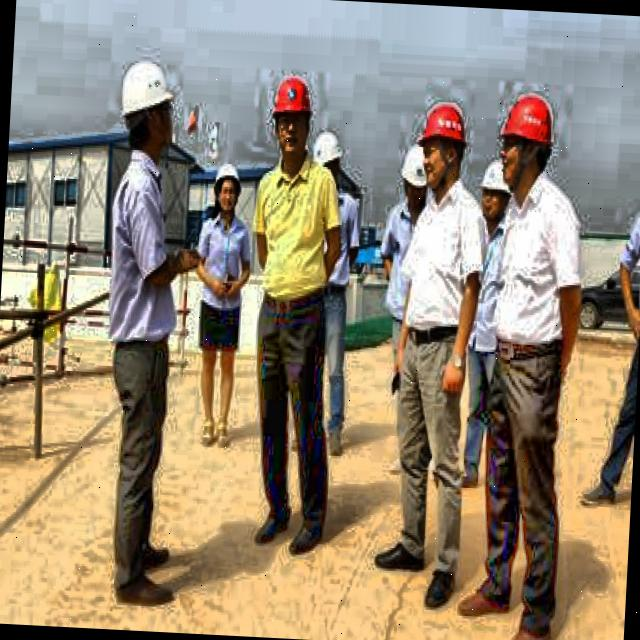helmet: (113, 46, 183, 168), (494, 89, 560, 199), (416, 96, 472, 195), (268, 64, 318, 164), (394, 144, 434, 218), (474, 154, 508, 227), (310, 132, 345, 186), (210, 162, 242, 220)
